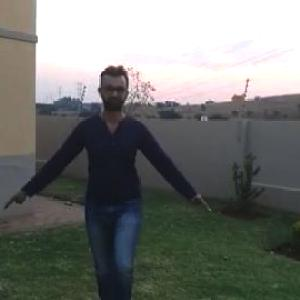land: (21, 68, 198, 299)
